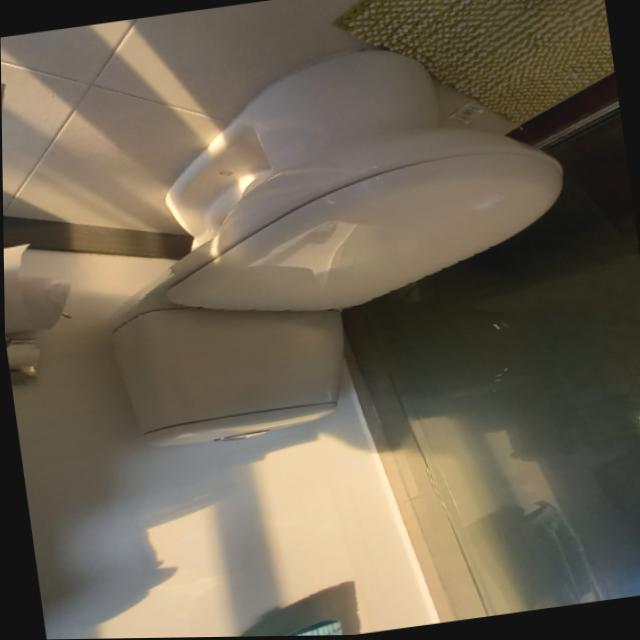toilet: (75, 25, 594, 455)
